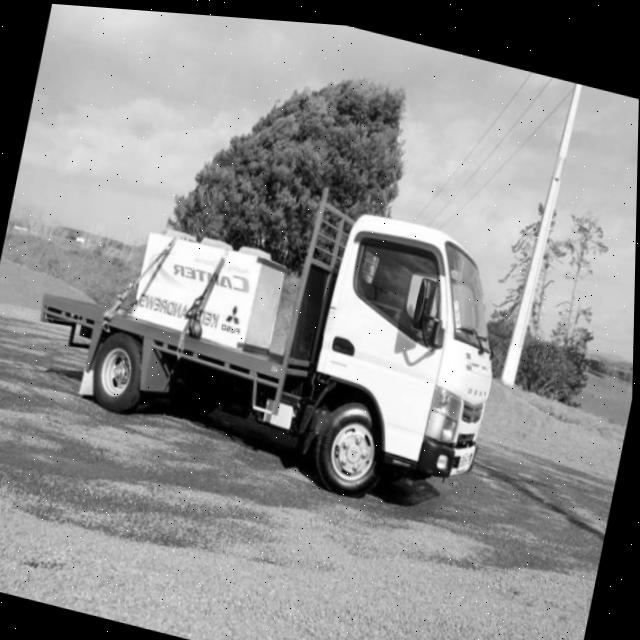truck: (262, 174, 534, 524)
